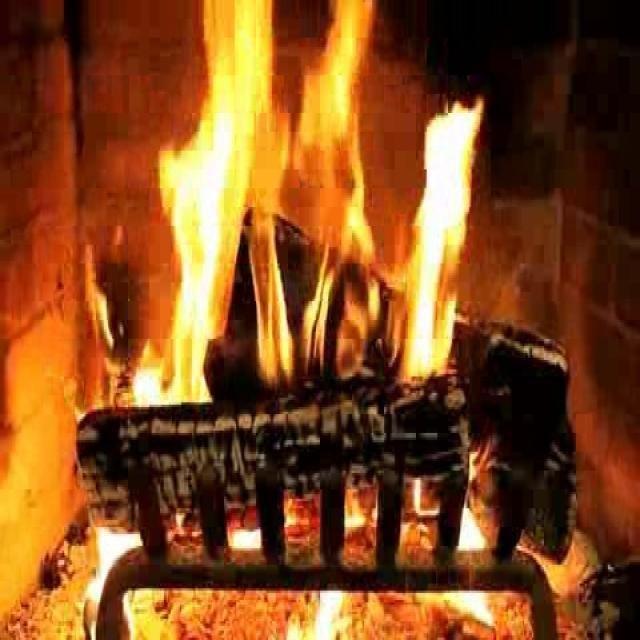Fire: (146, 4, 494, 439)
